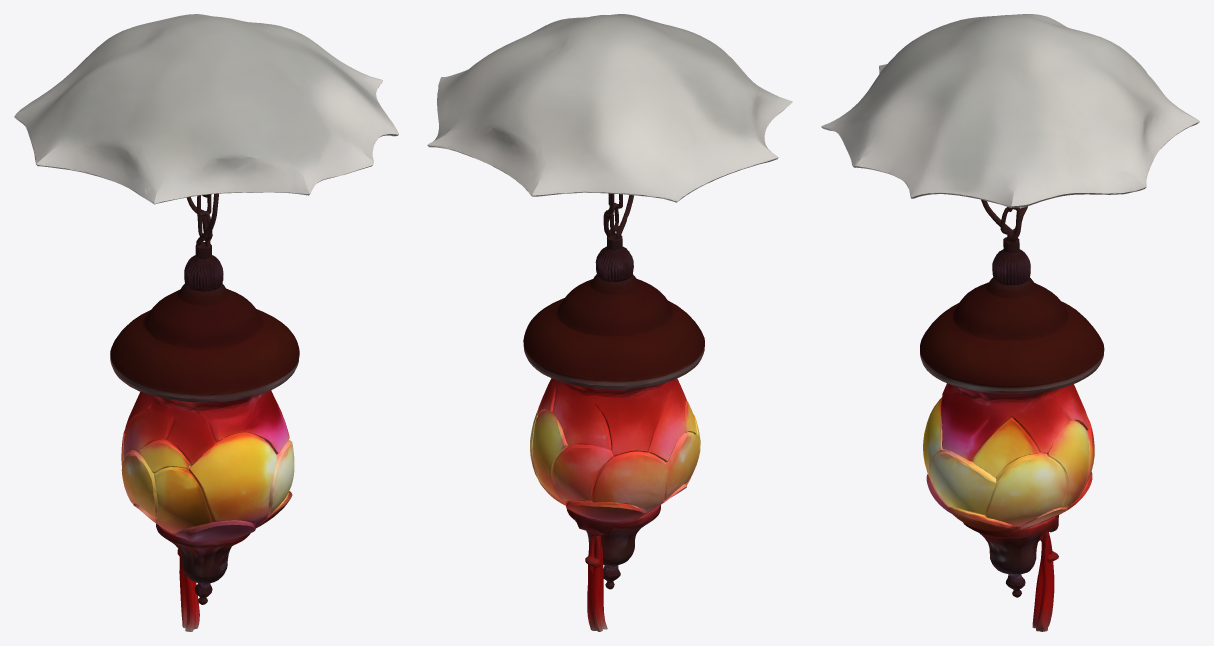
Rendered from entry-lantern.glb.
3 renders of one model, left to right at view 1: azimuth 30°, elevation 25°; view 2: azimuth 150°, elevation 25°; view 3: azimuth 270°, elevation 25°, orthographic. The views are drawn at different scales.
Visible parts, largest first — view 1: model; view 2: model; view 3: model.
Boxes of the visible parts, x1,y1,x2,y2 form: model: [14, 14, 398, 631]; model: [427, 14, 792, 631]; model: [821, 14, 1199, 631].
Size of the model in its own units: 1.13 by 1.9 by 1.08.
Materials: 1 (1 with a texture image).
